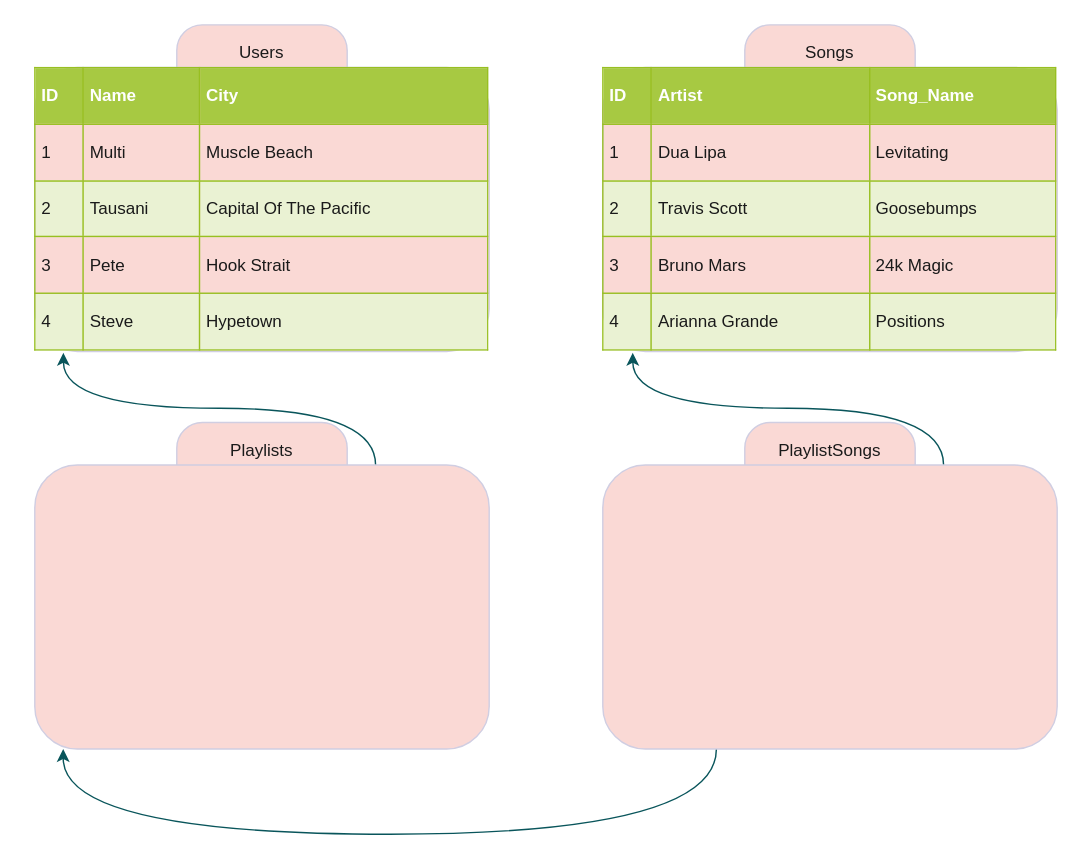
Some shapes in this 1082 by 859 pixel diagram are drawn without their labels. Here are the shapes that lost their labels. From the top down, the centre of each, then its label:
the point at 261,606: ID Name User_ID 1 Study Music 1 2 Chill 1 3 House 3 4 Rock 3
the point at 829,606: ID Playlist_ID Song_ID 1 1 1 2 1 2 3 2 3 4 4 4
